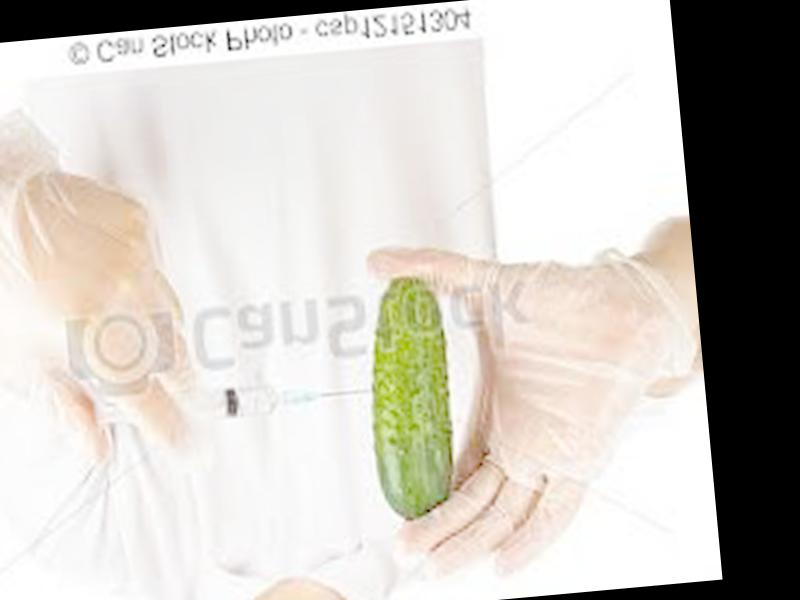Cucumber: (362, 269, 464, 522)
